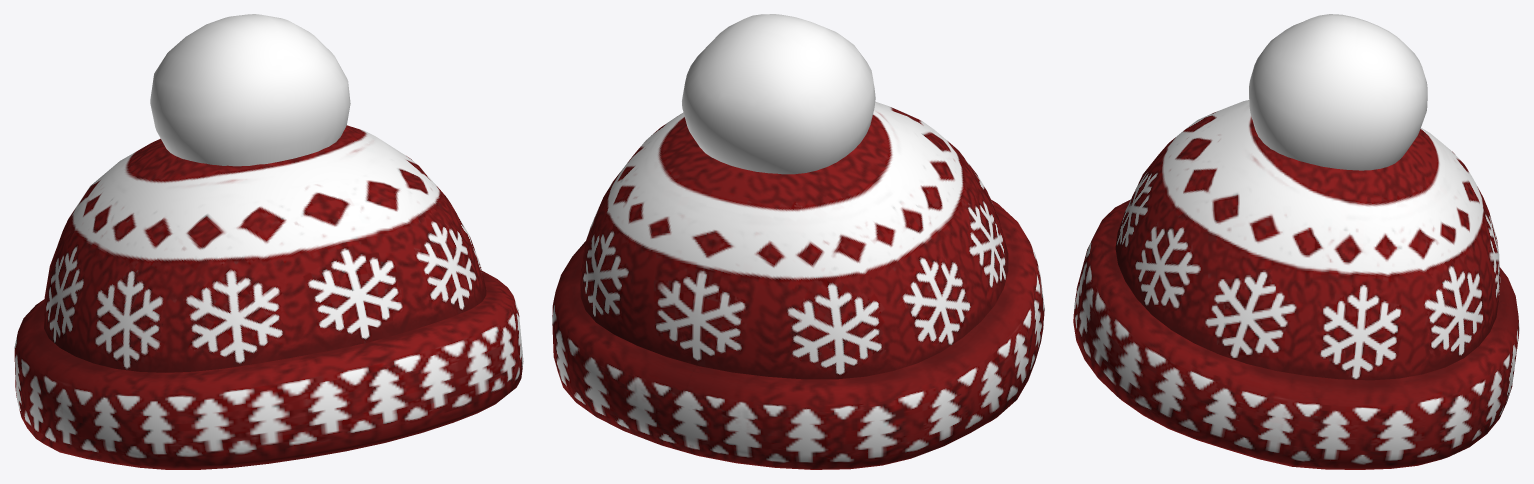
Rendered from doodad_winter_hat.fbx.
3 renders of one model, left to right at view 1: azimuth 30°, elevation 25°; view 2: azimuth 150°, elevation 25°; view 3: azimuth 270°, elevation 25°, orthographic. The views are drawn at different scales.
Parts seen in each view (by area): view 1: doodad_winter_hat; view 2: doodad_winter_hat; view 3: doodad_winter_hat.
Boxes of the visible parts, x1=… form: doodad_winter_hat: x1=14, y1=14, x2=523, y2=469; doodad_winter_hat: x1=552, y1=14, x2=1044, y2=469; doodad_winter_hat: x1=1073, y1=14, x2=1519, y2=469.
Bounding box in the file's own units: 0.2402 × 0.202 × 0.2223.
